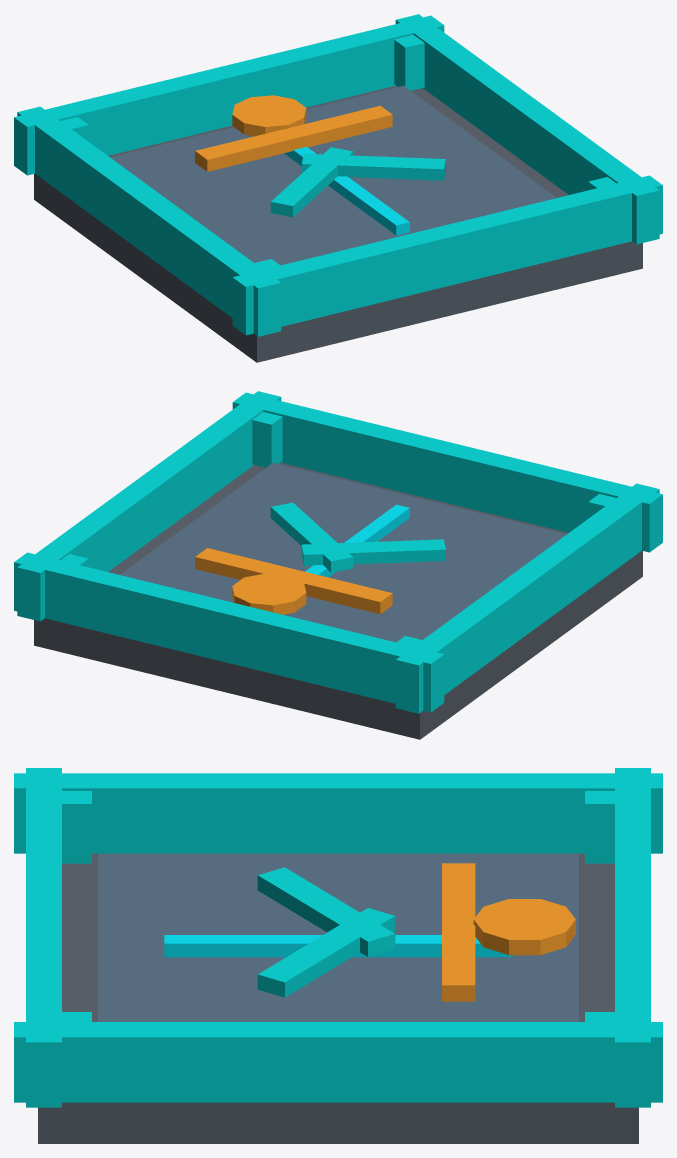
The model's file is TD_KnockTile.fbx.
The picture shows the model from 3 angles, top to bottom: view 1: azimuth 30°, elevation 25°; view 2: azimuth 150°, elevation 25°; view 3: azimuth 270°, elevation 25°; orthographic projection. The views are drawn at different scales.
Visible parts, largest first — view 1: TD_KnockTile_Surface, TD_KnockTile_Rail_South, TD_KnockTile_Rail_North, TD_KnockTile_BasePlate, TD_KnockTile_Rail_West, TD_KnockTile_Rail_East, TD_KnockTile_ImpactBar, TD_KnockTile_KnockChevron_Right, TD_KnockTile_ImpactDot, TD_KnockTile_KnockChevron_Left, TD_KnockTile_PathCenterLine, TD_KnockTile_CornerPost_04; view 2: TD_KnockTile_Surface, TD_KnockTile_Rail_North, TD_KnockTile_Rail_South, TD_KnockTile_BasePlate, TD_KnockTile_Rail_West, TD_KnockTile_Rail_East, TD_KnockTile_ImpactBar, TD_KnockTile_KnockChevron_Left, TD_KnockTile_ImpactDot, TD_KnockTile_KnockChevron_Right, TD_KnockTile_CornerPost_02, TD_KnockTile_PathCenterLine; view 3: TD_KnockTile_Surface, TD_KnockTile_Rail_East, TD_KnockTile_Rail_West, TD_KnockTile_BasePlate, TD_KnockTile_Rail_North, TD_KnockTile_Rail_South, TD_KnockTile_ImpactDot, TD_KnockTile_PathCenterLine, TD_KnockTile_ImpactBar, TD_KnockTile_KnockChevron_Right, TD_KnockTile_KnockChevron_Left, TD_KnockTile_CornerPost_01 (+1 smaller).
Boxes of the visible parts, x1=… form: TD_KnockTile_Surface: x1=110, y1=85, x2=556, y2=265; TD_KnockTile_Rail_South: x1=232, y1=175, x2=662, y2=335; TD_KnockTile_Rail_North: x1=14, y1=15, x2=444, y2=175; TD_KnockTile_BasePlate: x1=34, y1=85, x2=642, y2=362; TD_KnockTile_Rail_West: x1=17, y1=106, x2=281, y2=336; TD_KnockTile_Rail_East: x1=395, y1=14, x2=659, y2=244; TD_KnockTile_ImpactBar: x1=195, y1=105, x2=392, y2=171; TD_KnockTile_KnockChevron_Right: x1=301, y1=153, x2=445, y2=180; TD_KnockTile_ImpactDot: x1=232, y1=95, x2=306, y2=136; TD_KnockTile_KnockChevron_Left: x1=270, y1=147, x2=353, y2=217; TD_KnockTile_PathCenterLine: x1=284, y1=146, x2=409, y2=235; TD_KnockTile_CornerPost_04: x1=394, y1=35, x2=424, y2=90; TD_KnockTile_Surface: x1=120, y1=462, x2=566, y2=642; TD_KnockTile_Rail_North: x1=14, y1=552, x2=444, y2=712; TD_KnockTile_Rail_South: x1=232, y1=392, x2=662, y2=552; TD_KnockTile_BasePlate: x1=34, y1=462, x2=642, y2=739; TD_KnockTile_Rail_West: x1=395, y1=483, x2=659, y2=713; TD_KnockTile_Rail_East: x1=17, y1=391, x2=281, y2=621; TD_KnockTile_ImpactBar: x1=195, y1=548, x2=392, y2=614; TD_KnockTile_KnockChevron_Left: x1=301, y1=539, x2=445, y2=566; TD_KnockTile_ImpactDot: x1=232, y1=573, x2=306, y2=614; TD_KnockTile_KnockChevron_Right: x1=270, y1=502, x2=353, y2=572; TD_KnockTile_CornerPost_02: x1=252, y1=412, x2=282, y2=467; TD_KnockTile_PathCenterLine: x1=305, y1=504, x2=409, y2=577; TD_KnockTile_Surface: x1=98, y1=854, x2=578, y2=1021; TD_KnockTile_Rail_East: x1=14, y1=1022, x2=662, y2=1102; TD_KnockTile_Rail_West: x1=14, y1=773, x2=662, y2=853; TD_KnockTile_BasePlate: x1=38, y1=853, x2=638, y2=1143; TD_KnockTile_Rail_North: x1=615, y1=768, x2=650, y2=1107; TD_KnockTile_Rail_South: x1=26, y1=768, x2=61, y2=1107; TD_KnockTile_ImpactDot: x1=473, y1=899, x2=575, y2=955; TD_KnockTile_PathCenterLine: x1=164, y1=935, x2=512, y2=957; TD_KnockTile_ImpactBar: x1=442, y1=863, x2=475, y2=1001; TD_KnockTile_KnockChevron_Right: x1=257, y1=908, x2=395, y2=997; TD_KnockTile_KnockChevron_Left: x1=257, y1=867, x2=395, y2=956; TD_KnockTile_CornerPost_01: x1=62, y1=791, x2=91, y2=863.
Bounding box in the file's own units: 108 × 20.5 × 108.
